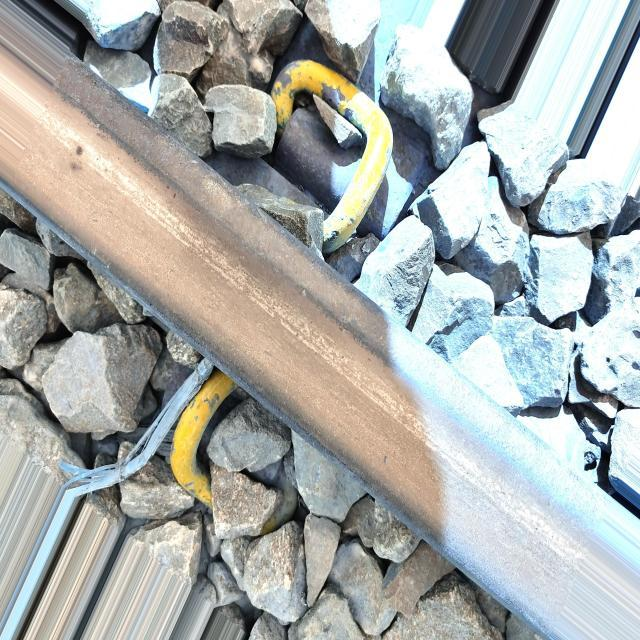broken_rail_medium: (68, 144, 84, 172)
